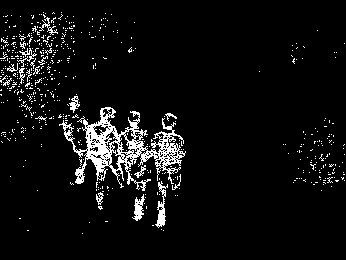person: (152, 110, 186, 227), (122, 105, 145, 220), (90, 105, 114, 206), (64, 97, 89, 179)
